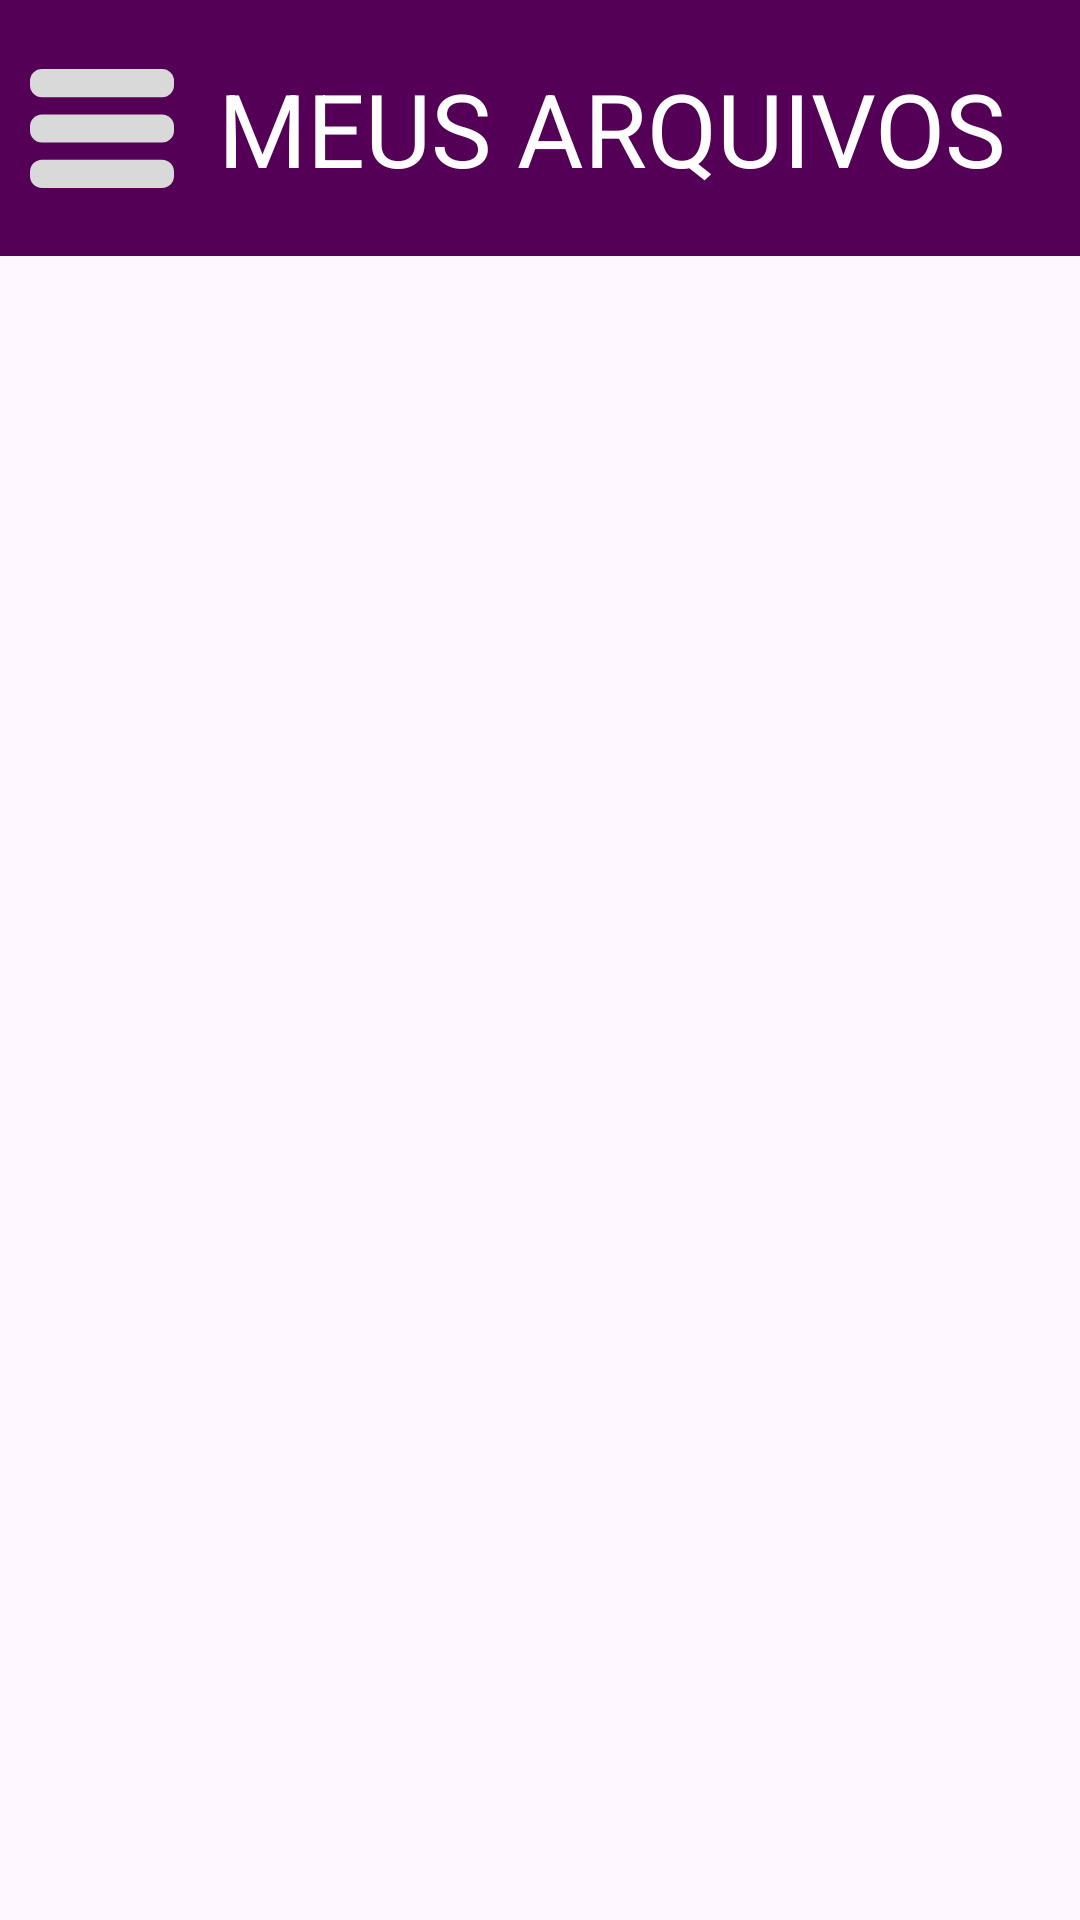

Icon bounding boxes for this 1080 x 1920 phone screenshot, format (x1, y1, x2, y2):
Menu sanduiche: (30, 69, 174, 188)
